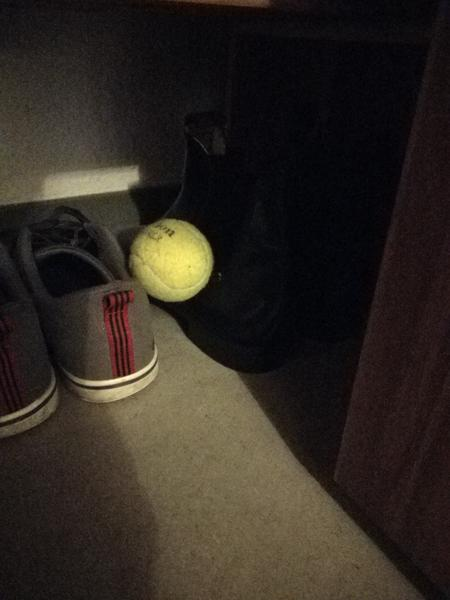Tennisball: (126, 215, 216, 308)
